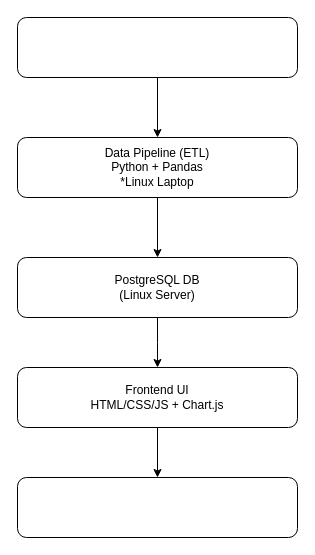
Some shapes in this 315 by 555 pixel diagram are drawn without their labels. Each missing label, with the centre of its shape:
External Sources (APIs / Web Scraping / Dataset): [157,47]
Users: [157,507]
